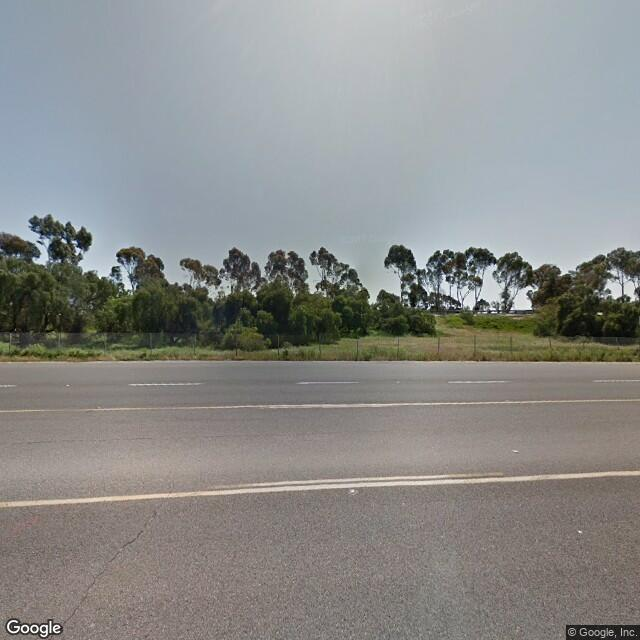litter: (508, 447, 517, 454)
